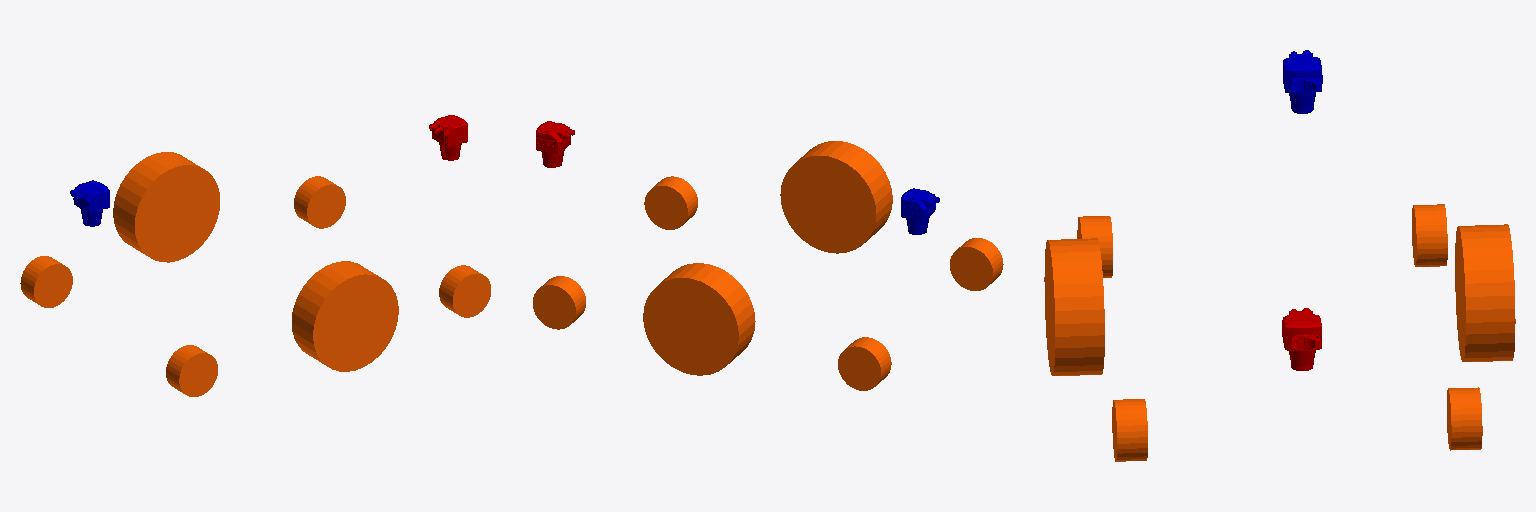
The robot description file, URDF, robot "tway":
<?xml version="1.0" ?>
<!-- =================================================================================== -->
<!-- |    This document was autogenerated by xacro from tway.urdf.xacro                | -->
<!-- |    EDITING THIS FILE BY HAND IS NOT RECOMMENDED                                 | -->
<!-- =================================================================================== -->
<robot name="tway" xmlns:xacro="http://ros.org/wiki/xacro">
  <!-- Init colour -->
  <material name="black">
    <color rgba="0.0 0.0 0.0 1.0"/>
  </material>
  <material name="dark">
    <color rgba="0.3 0.3 0.3 1.0"/>
  </material>
  <material name="light_black">
    <color rgba="0.4 0.4 0.4 1.0"/>
  </material>
  <material name="blue">
    <color rgba="0.0 0.0 0.8 1.0"/>
  </material>
  <material name="green">
    <color rgba="0.0 0.8 0.0 1.0"/>
  </material>
  <material name="grey">
    <color rgba="0.5 0.5 0.5 1.0"/>
  </material>
  <material name="orange">
    <color rgba="1.0 0.423529411765 0.0392156862745 1.0"/>
  </material>
  <material name="brown">
    <color rgba="0.870588235294 0.811764705882 0.764705882353 1.0"/>
  </material>
  <material name="red">
    <color rgba="0.8 0.0 0.0 1.0"/>
  </material>
  <material name="white">
    <color rgba="1.0 1.0 1.0 1.0"/>
  </material>
  <!-- ==============================================================================-->
  <gazebo reference="base_link">
    <material>Gazebo/blue</material>
  </gazebo>
  <gazebo reference="wheel_left_link">
    <mu1>0.1</mu1>
    <!-- // Coefficient of friction in the range of 0..1    //-->
    <mu2>0.1</mu2>
    <!-- // Second Coefficient of friction in the range of 0..1    //-->
    <kp>500000.0e4</kp>
    <!-- // Dynamically "stiffness"-equivalent coefficient for contract joints    //-->
    <kd>10.0e2</kd>
    <!-- // Dynamically "damping"-equivalent coefficient for contact joints //-->
    <minDepth>0.001</minDepth>
    <!-- // Minimum allowable depth before contact correction impulse is applied //-->
    <maxVel>1</maxVel>
    <!-- // Maximum contact correction velocity truncation term  //-->
    <fdir1>1 0 0</fdir1>
    <!-- // 3-tuple specifying direction of mu1 in the collision local reference frame    //-->
    <material>Gazebo/FlatBlack</material>
  </gazebo>
  <!-- ==============================================================================-->
  <gazebo reference="wheel_right_link">
    <mu1>0.1</mu1>
    <mu2>0.1</mu2>
    <kp>500000.0e4</kp>
    <kd>10.0e2</kd>
    <minDepth>0.001</minDepth>
    <maxVel>1</maxVel>
    <fdir1>1 0 0</fdir1>
    <material>Gazebo/FlatBlack</material>
  </gazebo>
  <!-- ==============================================================================-->
  <gazebo reference="caster_back_right_link">
    <material>Gazebo/Grey</material>
  </gazebo>
  <!-- ==============================================================================-->
  <gazebo reference="caster_back_left_link">
    <material>Gazebo/Grey</material>
  </gazebo>
  <!-- ==============================================================================-->
  <gazebo reference="caster_front_left_link">
    <material>Gazebo/Grey</material>
  </gazebo>
  <!-- ==============================================================================-->
  <gazebo reference="caster_front_right_link">
    <material>Gazebo/Grey</material>
  </gazebo>
  <!-- ==============================================================================-->
  <gazebo reference="imu_link">
    <sensor name="imu" type="imu">
      <always_on>true</always_on>
      <visualize>false</visualize>
    </sensor>
    <material>Gazebo/Grey</material>
  </gazebo>
  <!-- ==============================================================================-->
  <gazebo>
    <plugin filename="libgazebo_ros_diff_drive.so" name="tway_controller">
      <!-- //Library file   //-->
      <commandTopic>cmd_vel</commandTopic>
      <odometryTopic>odom</odometryTopic>
      <odometryFrame>odom</odometryFrame>
      <robotBaseFrame>base_footprint</robotBaseFrame>
      <publishWheelTF>false</publishWheelTF>
      <publishTf>true</publishTf>
      <publishWheelJointState>true</publishWheelJointState>
      <legacyMode>false</legacyMode>
      <updateRate>30</updateRate>
      <leftJoint>wheel_left_joint</leftJoint>
      <rightJoint>wheel_right_joint</rightJoint>
      <wheelSeparation>0.64</wheelSeparation>
      <!-- // Distance between 2 active wheels    //-->
      <wheelDiameter>0.22</wheelDiameter>
      <!-- // Diameter of 2 active wheels   //-->
      <wheelAcceleration>10</wheelAcceleration>
      <wheelTorque>5000</wheelTorque>
      <!-- // Wheel Torque   //-->
      <rosDebugLevel>na</rosDebugLevel>
    </plugin>
  </gazebo>
  <!-- ==============================================================================-->
  <gazebo>
    <plugin filename="libgazebo_ros_imu.so" name="imu_plugin">
      <alwaysOn>true</alwaysOn>
      <bodyName>imu_link</bodyName>
      <topicName>imu</topicName>
      <serviceName>imu_service</serviceName>
      <gaussianNoise>0.0</gaussianNoise>
      <updateRate>200</updateRate>
      <imu>
        <noise>
          <type>gaussian</type>
          <rate>
            <mean>0.0</mean>
            <stddev>2e-4</stddev>
            <bias_mean>0.0000075</bias_mean>
            <bias_stddev>0.0000008</bias_stddev>
          </rate>
          <accel>
            <mean>0.0</mean>
            <stddev>1.7e-2</stddev>
            <bias_mean>0.1</bias_mean>
            <bias_stddev>0.001</bias_stddev>
          </accel>
        </noise>
      </imu>
    </plugin>
  </gazebo>
  <!-- ==============================================================================-->
  <gazebo reference="laser">
    <material>Gazebo/Red</material>
    <sensor name="lds_lfcd_sensor" type="ray">
      <pose>0 0 0 0 0 0</pose>
      <!-- //a position and orientation with respect to the specified frame //-->
      <visualize>true</visualize>
      <!-- //show laser lines or not //-->
      <ray>
        <scan>
          <horizontal>
            <samples>240</samples>
            <!-- //the number of simulated rays to generate per complete laser sweep cycle//-->
            <resolution>1</resolution>
            <!-- //This number is multiplied by samples to determine the number of range data points returned. -->
            <!-- If the resolution is less than one, range data is interpolated. -->
            <!--If resolution is greater than one, range data is averaged//-->
            <min_angle>-1.5</min_angle>
            <max_angle>1.5</max_angle>
          </horizontal>
        </scan>
        <range>
          <!-- //Range of LiDAR//-->
          <min>0.120</min>
          <max>10.5</max>
          <resolution>0.015</resolution>
        </range>
        <noise>
          <type>gaussian</type>
          <mean>0.0</mean>
          <stddev>0.01</stddev>
        </noise>
      </ray>
      <plugin filename="libgazebo_ros_laser.so" name="gazebo_ros_lds_lfcd_controller">
        <topicName>scan</topicName>
        <frameName>laser</frameName>
        <update_rate>1800</update_rate>
      </plugin>
    </sensor>
  </gazebo>
  <!-- ==============================================================================-->
  <!-- ==============================================================================-->
  <gazebo reference="camera_rgb_frame">
    <sensor name="realsense_R200" type="depth">
      <always_on>true</always_on>
      <visualize>false</visualize>
      <camera>
        <horizontal_fov>1.3439</horizontal_fov>
        <image>
          <width>1920</width>
          <height>1080</height>
          <format>R8G8B8</format>
        </image>
        <depth_camera/>
        <clip>
          <near>0.03</near>
          <far>100</far>
        </clip>
      </camera>
      <plugin filename="libgazebo_ros_openni_kinect.so" name="camera_controller">
        <baseline>0.2</baseline>
        <alwaysOn>true</alwaysOn>
        <updateRate>30.0</updateRate>
        <cameraName>camera</cameraName>
        <frameName>camera_rgb_optical_frame</frameName>
        <imageTopicName>rgb/image_raw</imageTopicName>
        <depthImageTopicName>depth/image_raw</depthImageTopicName>
        <pointCloudTopicName>depth/points</pointCloudTopicName>
        <cameraInfoTopicName>rgb/camera_info</cameraInfoTopicName>
        <depthImageCameraInfoTopicName>depth/camera_info</depthImageCameraInfoTopicName>
        <pointCloudCutoff>0.4</pointCloudCutoff>
        <hackBaseline>0.07</hackBaseline>
        <distortionK1>0.0</distortionK1>
        <distortionK2>0.0</distortionK2>
        <distortionK3>0.0</distortionK3>
        <distortionT1>0.0</distortionT1>
        <distortionT2>0.0</distortionT2>
        <CxPrime>0.0</CxPrime>
        <Cx>0.0</Cx>
        <Cy>0.0</Cy>
        <focalLength>0</focalLength>
        <hackBaseline>0</hackBaseline>
      </plugin>
    </sensor>
  </gazebo>
  <!-- ==============================================================================-->
  <!-- ================================================================-->
  <!-- ================================================================-->
  <!--First, we have to Describe Tway Base (body) and its foot print -->
  <link name="base_footprint"/>
  <joint name="base_joint" type="fixed">
    <parent link="base_footprint"/>
    <child link="base_link"/>
    <origin rpy="0 0 0.08" xyz="0 0 0.0"/>
  </joint>
  <!-- ================================================================-->
  <link name="base_link">
    <visual>
      <origin rpy="1.57 0 0" xyz="-0.52 0.82 -0.40"/>
      <!-- body position only -->
      <geometry>
        <mesh filename="package://tway_description/meshes/bases/tway_base.stl" scale="0.001 0.001 0.001"/>
      </geometry>
      <material name="grey"/>
    </visual>
    <collision>
      <origin rpy="0 0 0" xyz="0 0 0"/>
      <!-- no effect -->
      <geometry>
        <box size="0.8 1.0 0.38"/>
      </geometry>
    </collision>
    <inertial>
      <origin rpy="0 0 0" xyz="0 0 0"/>
      <mass value="300e+00"/>
      <inertia ixx="19.61" ixy="-4.7576583e-05" ixz="1.1160499e-04" iyy="28.61" iyz="-3.5422299e-06" izz="41"/>
    </inertial>
  </link>
  <!-- ================================================================-->
  <!-- //////////////////////Wheel part. Tway has 2 Wheels /////////////////////////-->
  <!--Second, We describe Left and Right Wheel  -->
  <joint name="wheel_left_joint" type="continuous">
    <parent link="base_link"/>
    <child link="wheel_left_link"/>
    <origin rpy="-1.5707 0 0" xyz="0.0 0.3315 -0.1"/>
    <axis xyz="0 0 1"/>
  </joint>
  <link name="wheel_left_link">
    <visual>
      <origin rpy="0 0 0" xyz="0 0 0"/>
      <geometry>
        <!--<mesh filename="package://tway_description/meshes/wheels/left_tire.stl" scale="0.001 0.001 0.001"/> -->
        <cylinder length="0.08" radius="0.11"/>
      </geometry>
      <material name="orange"/>
    </visual>
    <collision>
      <origin rpy="0 0 0" xyz="0 0.0 0"/>
      <geometry>
        <cylinder length="0.08" radius="0.11"/>
      </geometry>
    </collision>
    <inertial>
      <origin xyz="0 0 0"/>
      <mass value="21"/>
      <inertia ixx="0.154" ixy="-4.2369783e-8" ixz="-5.9381719e-07" iyy="0.056" iyz="-1.4400107e-8" izz="0.132"/>
    </inertial>
  </link>
  <!-- ================================================================-->
  <joint name="wheel_right_joint" type="continuous">
    <parent link="base_link"/>
    <child link="wheel_right_link"/>
    <origin rpy="-1.5707 0 0" xyz="0.0 -0.3315 -0.1"/>
    <axis xyz="0 0 1"/>
  </joint>
  <link name="wheel_right_link">
    <visual>
      <origin rpy="0 0 0" xyz="0 0 0"/>
      <geometry>
        <!--<mesh filename="package://tway_description/meshes/wheels/main_right_wheel.stl" scale="0.001 0.001 0.001"/>  -->
        <cylinder length="0.08" radius="0.11"/>
      </geometry>
      <material name="orange"/>
    </visual>
    <collision>
      <origin rpy="0 0 0" xyz="0 0.0 0"/>
      <geometry>
        <cylinder length="0.08" radius="0.11"/>
      </geometry>
    </collision>
    <inertial>
      <origin xyz="0 0 0"/>
      <mass value="21"/>
      <inertia ixx="0.154" ixy="-4.2369783e-8" ixz="-5.9381719e-07" iyy="0.056" iyz="-1.4400107e-8" izz="0.132"/>
    </inertial>
  </link>
  <!-- //////////////////////CARTER part. Tway has 4 CARTERS /////////////////////////-->
  <!-- ================================================================-->
  <joint name="caster_back_right_joint" type="fixed">
    <parent link="base_link"/>
    <child link="caster_back_right_link"/>
    <origin rpy="1.57 0 0" xyz="0.35 -0.27 -0.158"/>
    <axis xyz="0 0 1"/>
  </joint>
  <link name="caster_back_right_link">
    <visual>
      <origin rpy="0 0 0" xyz="0 0 0"/>
      <geometry>
        <cylinder length="0.05" radius="0.05"/>
      </geometry>
      <material name="orange"/>
    </visual>
    <collision>
      <origin rpy="0 0 0" xyz="0 0.0 0"/>
      <geometry>
        <cylinder length="0.05" radius="0.05"/>
      </geometry>
      <material name="red"/>
    </collision>
    <inertial>
      <origin xyz="0 0 0"/>
      <mass value="1"/>
      <inertia ixx="0.1" ixy="0.0" ixz="0.0" iyy="0.1" iyz="0.0" izz="0.1"/>
    </inertial>
  </link>
  <!-- ================================================================-->
  <joint name="caster_back_left_joint" type="fixed">
    <parent link="base_link"/>
    <child link="caster_back_left_link"/>
    <origin rpy="1.57 0 0" xyz="0.35 0.27 -0.158 "/>
    <axis xyz="0 0 1"/>
  </joint>
  <link name="caster_back_left_link">
    <visual>
      <origin rpy="0 0 0" xyz="0 0 0"/>
      <geometry>
        <cylinder length="0.05" radius="0.05"/>
      </geometry>
      <material name="orange"/>
    </visual>
    <collision>
      <origin rpy="0 0 0" xyz="0 0.0 0"/>
      <geometry>
        <cylinder length="0.05" radius="0.05"/>
      </geometry>
      <material name="blue"/>
    </collision>
    <inertial>
      <origin xyz="0 0 0"/>
      <mass value="1"/>
      <inertia ixx="0.1" ixy="0.0" ixz="0.0" iyy="0.1" iyz="0.0" izz="0.1"/>
    </inertial>
  </link>
  <!-- ================================================================-->
  <joint name="caster_front_right_joint" type="fixed">
    <parent link="base_link"/>
    <child link="caster_front_right_link"/>
    <origin rpy="1.57 0 0" xyz="-0.35 -0.27 -0.158"/>
    <axis xyz="0 0 1"/>
  </joint>
  <link name="caster_front_right_link">
    <visual>
      <origin rpy="0 0 0" xyz="0 0 0"/>
      <geometry>
        <cylinder length="0.05" radius="0.05"/>
      </geometry>
      <material name="orange"/>
    </visual>
    <collision>
      <origin rpy="0 0 0" xyz="0 0.0 0"/>
      <geometry>
        <cylinder length="0.05" radius="0.05"/>
      </geometry>
      <material name="red"/>
    </collision>
    <inertial>
      <origin xyz="0 0 0"/>
      <mass value="1"/>
      <inertia ixx="0.1" ixy="0.0" ixz="0.0" iyy="0.1" iyz="0.0" izz="0.1"/>
    </inertial>
  </link>
  <!-- ================================================================-->
  <joint name="caster_front_left_joint" type="fixed">
    <parent link="base_link"/>
    <child link="caster_front_left_link"/>
    <origin rpy="1.57 0 0" xyz="-0.35 0.27 -0.158"/>
    <axis xyz="0 0 1"/>
  </joint>
  <link name="caster_front_left_link">
    <visual>
      <origin rpy="0 0 0" xyz="0 0 0"/>
      <geometry>
        <cylinder length="0.05" radius="0.05"/>
      </geometry>
      <material name="orange"/>
    </visual>
    <collision>
      <origin rpy="0 0 0" xyz="0 0.0 0"/>
      <geometry>
        <cylinder length="0.05" radius="0.05"/>
      </geometry>
      <material name="blue"/>
    </collision>
    <inertial>
      <origin xyz="0 0 0"/>
      <mass value="1"/>
      <inertia ixx="0.1" ixy="0.0" ixz="0.0" iyy="0.1" iyz="0.0" izz="0.1"/>
    </inertial>
  </link>
  <!-- ================================================================-->
  <joint name="imu_joint" type="fixed">
    <parent link="base_link"/>
    <child link="imu_link"/>
    <origin rpy="0 0 0" xyz="0.0 0 0.068"/>
  </joint>
  <link name="imu_link"/>
  <!-- ================================================================-->
  <joint name="scan_joint" type="fixed">
    <parent link="base_link"/>
    <child link="laser"/>
    <origin rpy="0 0 0" xyz="0.45 -0.035 0.1"/>
  </joint>
  <link name="laser">
    <visual>
      <origin rpy="-1.57 0 0" xyz="0 0 0"/>
      <geometry>
        <mesh filename="package://tway_description/meshes/sensors/sick551.stl" scale="0.001 0.001 0.001"/>
      </geometry>
      <material name="red"/>
    </visual>
    <collision>
      <origin rpy="0 0 0" xyz="0 0 0"/>
      <geometry>
        <cylinder length="0.0315" radius="0.055"/>
      </geometry>
    </collision>
    <inertial>
      <mass value="0.114"/>
      <origin xyz="0 0 0"/>
      <inertia ixx="0.001" ixy="0.0" ixz="0.0" iyy="0.001" iyz="0.0" izz="0.001"/>
    </inertial>
  </link>
  <!-- ================================================================-->
  <joint name="scan_joint_back" type="fixed">
    <parent link="base_link"/>
    <child link="base_scan_back"/>
    <origin rpy="0 0 3.1459" xyz="-0.42 0.035 0.15"/>
  </joint>
  <link name="base_scan_back">
    <visual>
      <origin rpy="-1.57 0 3.14" xyz="0 0.0 0.0"/>
      <geometry>
        <mesh filename="package://tway_description/meshes/sensors/sick551.stl" scale="0.001 0.001 0.001"/>
      </geometry>
      <material name="blue"/>
    </visual>
    <collision>
      <origin rpy="0 0 0" xyz="0 0 0"/>
      <geometry>
        <cylinder length="0.0315" radius="0.055"/>
      </geometry>
    </collision>
    <inertial>
      <mass value="0.114"/>
      <origin xyz="0 0 0"/>
      <inertia ixx="0.001" ixy="0.0" ixz="0.0" iyy="0.001" iyz="0.0" izz="0.001"/>
    </inertial>
  </link>
  <!-- ================================================================-->
</robot>

--- Facts derived from the render (not from the file) ---
Views: 3 orthographic renders of the robot side by side, from view 1: azimuth 30°, elevation 25°; view 2: azimuth 150°, elevation 25°; view 3: azimuth 270°, elevation 25°.
Robot: tway — 11 links, 10 joints (2 continuous, 8 fixed); root link base_footprint; default pose: every joint at zero.
Visible links, largest first — view 1: wheel_right_link, wheel_left_link, caster_back_right_link, caster_back_left_link, caster_front_right_link, caster_front_left_link, base_scan_back, laser; view 2: wheel_right_link, wheel_left_link, caster_front_left_link, caster_back_left_link, caster_back_right_link, caster_front_right_link, laser, base_scan_back; view 3: wheel_left_link, wheel_right_link, caster_front_left_link, caster_back_right_link, caster_back_left_link, laser, base_scan_back, caster_front_right_link.
Boxes of the visible links, x1,y1,x2,y2 form: wheel_right_link: (292, 261, 398, 371); wheel_left_link: (113, 152, 219, 262); caster_back_right_link: (439, 265, 490, 317); caster_back_left_link: (294, 176, 345, 228); caster_front_right_link: (166, 345, 217, 396); caster_front_left_link: (20, 256, 72, 307); base_scan_back: (70, 180, 109, 226); laser: (429, 115, 467, 160); wheel_right_link: (780, 141, 892, 253); wheel_left_link: (643, 263, 755, 375); caster_front_left_link: (838, 337, 891, 390); caster_back_left_link: (533, 276, 585, 329); caster_back_right_link: (644, 176, 697, 229); caster_front_right_link: (950, 238, 1003, 290); laser: (536, 121, 574, 167); base_scan_back: (901, 188, 939, 234); wheel_left_link: (1455, 224, 1515, 361); wheel_right_link: (1044, 238, 1104, 375); caster_front_left_link: (1412, 204, 1447, 266); caster_back_right_link: (1112, 399, 1147, 461); caster_back_left_link: (1447, 387, 1482, 450); laser: (1282, 308, 1321, 370); base_scan_back: (1283, 50, 1322, 113); caster_front_right_link: (1077, 216, 1112, 277).
Bounding box of the posed robot: 0.9506 × 0.7582 × 0.358 m (x, y, z).
Meshes: 2 distinct files referenced, 2 mesh visuals loaded (1 binary STL); not drawn: 1 (reference not matched to a file when rendering).
